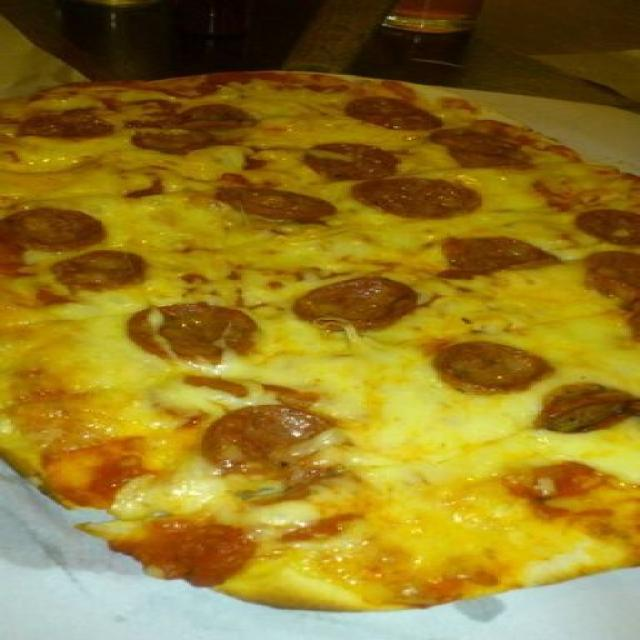Cheese: (386, 402, 490, 471), (40, 329, 126, 399), (296, 342, 418, 390), (19, 150, 129, 196), (262, 240, 408, 266), (138, 206, 196, 248)
Pepperoni: (192, 400, 347, 474), (124, 301, 266, 361), (285, 273, 425, 328), (428, 338, 549, 396), (135, 104, 256, 154), (348, 174, 482, 219), (431, 234, 560, 280), (528, 382, 640, 430), (209, 181, 339, 220), (0, 207, 107, 250), (296, 138, 405, 180), (427, 125, 532, 168), (342, 92, 446, 134), (580, 250, 640, 319), (51, 250, 149, 292), (15, 105, 123, 142), (569, 205, 640, 247)
Pizza: (0, 71, 640, 615)
